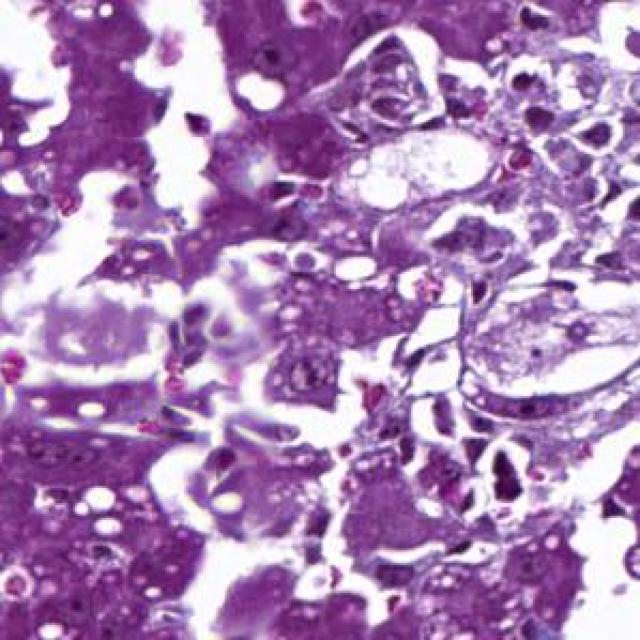ballooning: (340, 122, 503, 218)
